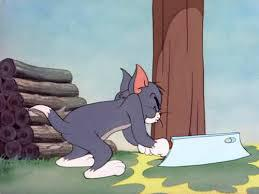tom: (27, 63, 170, 179)
